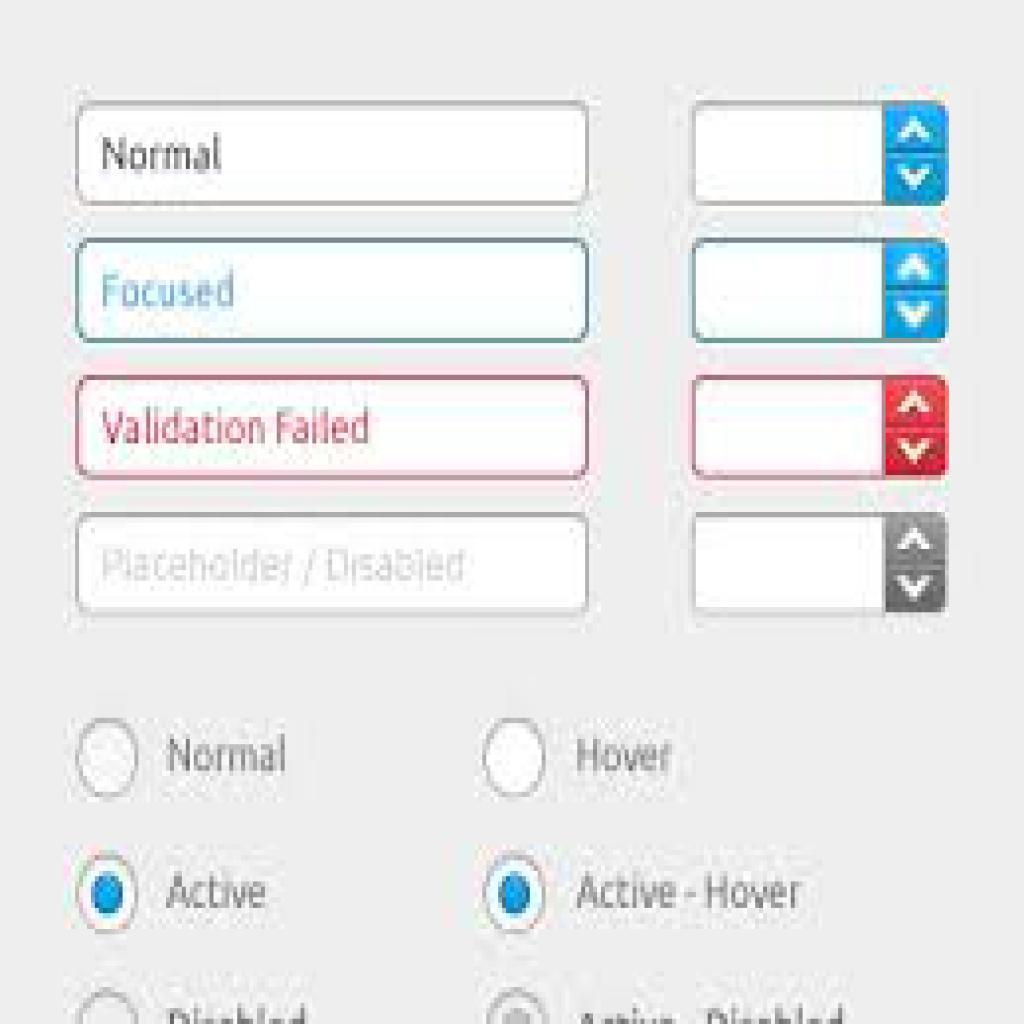dropdown: (692, 376, 951, 479), (693, 105, 949, 207), (694, 240, 948, 342), (694, 514, 948, 615)
input: (77, 240, 590, 342), (78, 102, 590, 204), (77, 515, 589, 617), (80, 377, 587, 479)
radio: (480, 852, 550, 939), (74, 713, 142, 802), (482, 716, 548, 803), (74, 853, 140, 938)
